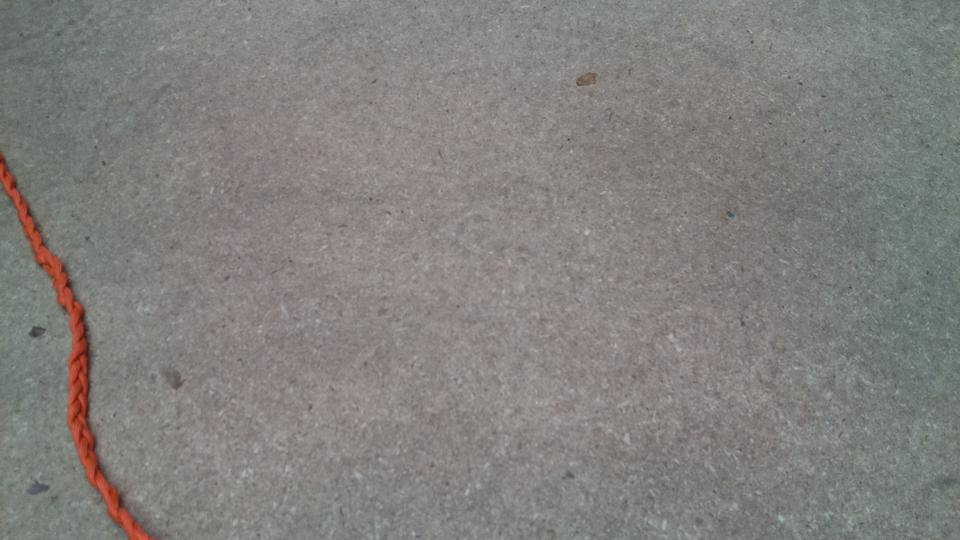rope: (2, 164, 148, 540)
